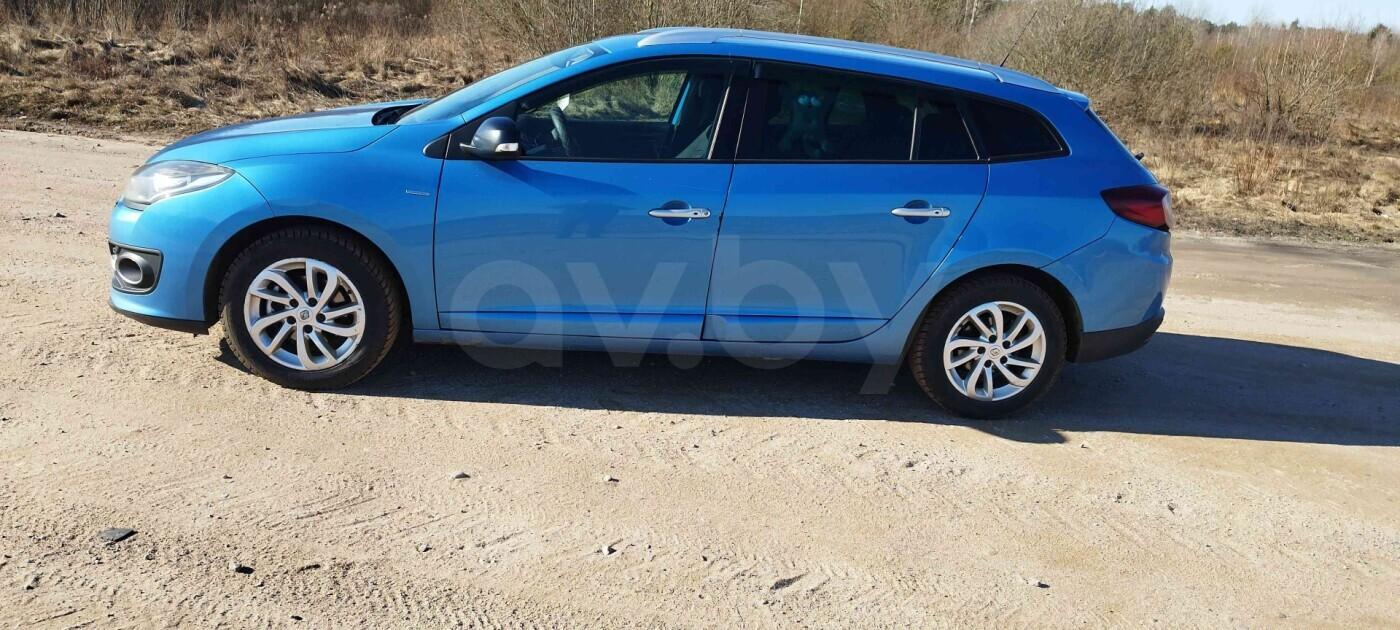Megane_2014-2016: (112, 33, 1179, 436)
